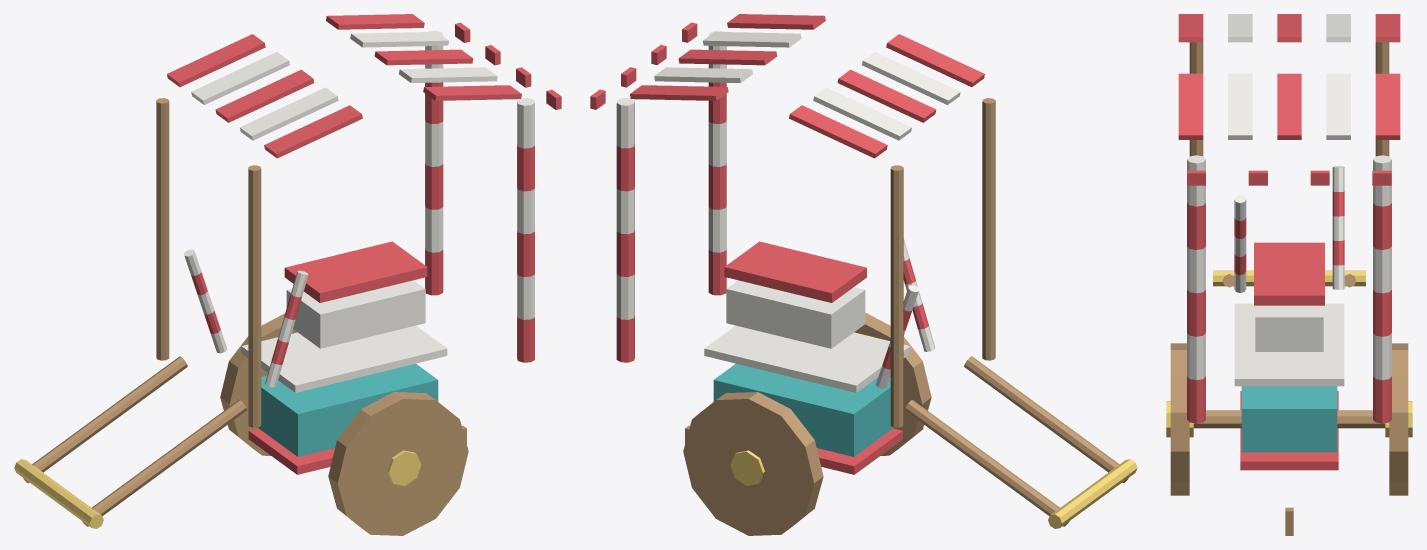
Rendered from th3_brezelstand.glb.
The picture shows the model from 3 angles, left to right: view 1: azimuth 30°, elevation 25°; view 2: azimuth 150°, elevation 25°; view 3: azimuth 270°, elevation 25°; orthographic projection.
Parts seen in each view (by area): view 1: brezelstand; view 2: brezelstand; view 3: brezelstand.
Part boxes in pixels (x1=…): brezelstand: x1=14, y1=14, x2=561, y2=535; brezelstand: x1=590, y1=14, x2=1137, y2=535; brezelstand: x1=1166, y1=14, x2=1412, y2=535.
Bounding box in the file's own units: 1.96 × 1.75 × 0.9.
